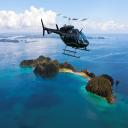helicopter: (42, 14, 91, 61)
